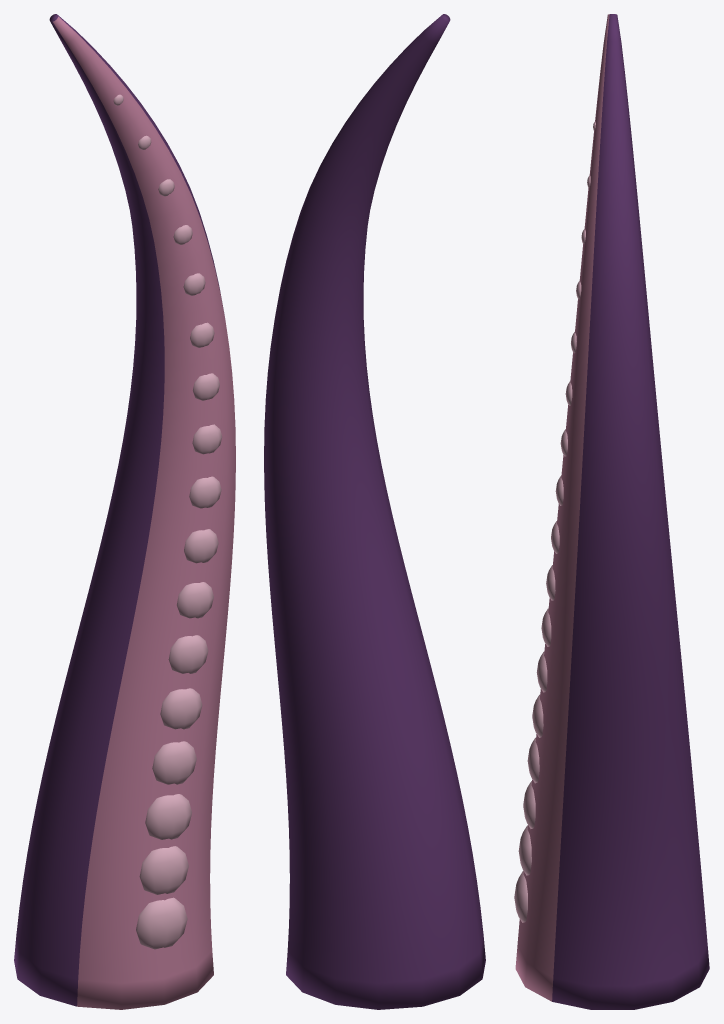
The model's file is tentacle.glb.
3 views of the same model, side by side, from view 1: azimuth 30°, elevation 25°; view 2: azimuth 150°, elevation 25°; view 3: azimuth 270°, elevation 25° (orthographic). The views are drawn at different scales.
Visible parts, largest first — view 1: Tentacle; view 2: Tentacle; view 3: Tentacle.
Boxes of the visible parts, x1=… form: Tentacle: x1=14, y1=14, x2=235, y2=1009; Tentacle: x1=264, y1=14, x2=485, y2=1009; Tentacle: x1=514, y1=14, x2=709, y2=1009.
Size of the model in its own units: 2.75 by 12.78 by 2.44.
